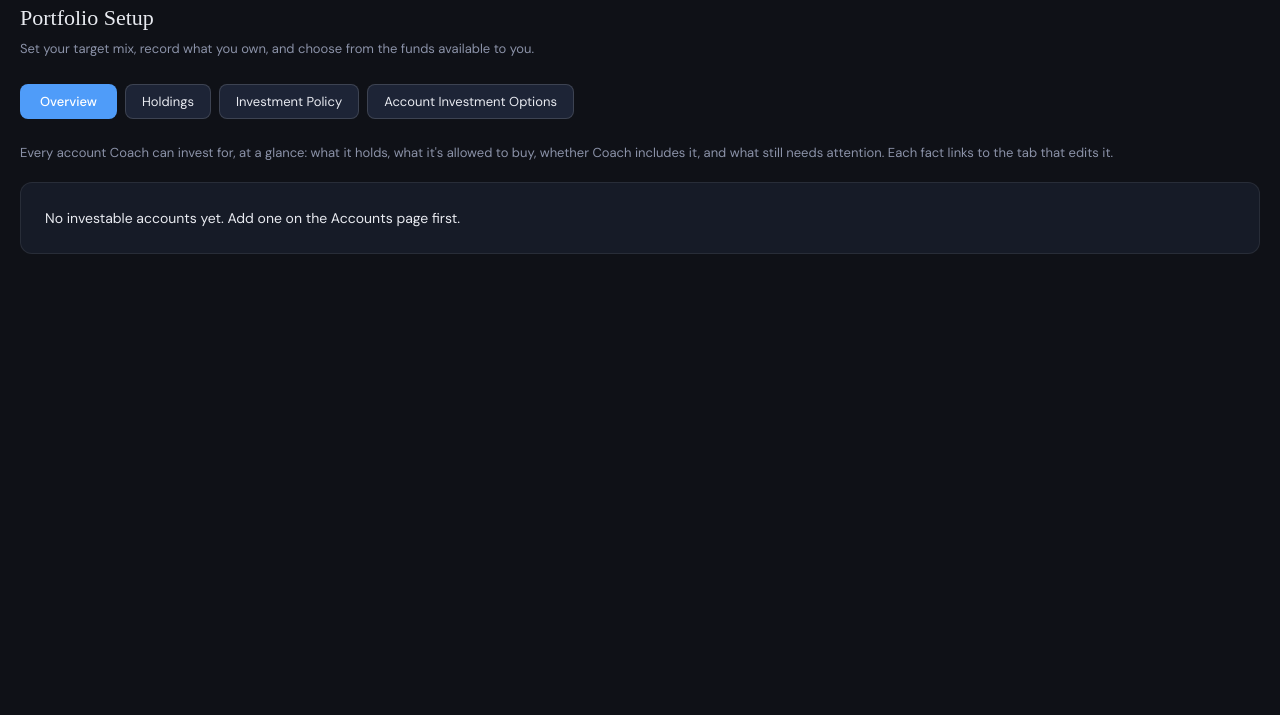
Scenario: PortfolioSetup workflows › applying a preset fills in the detail fields and the summary donut updates (audit finding #7, 2026-09-14)
Click the button "Investment Policy". click: (289, 102)
box: [219,84,359,119]
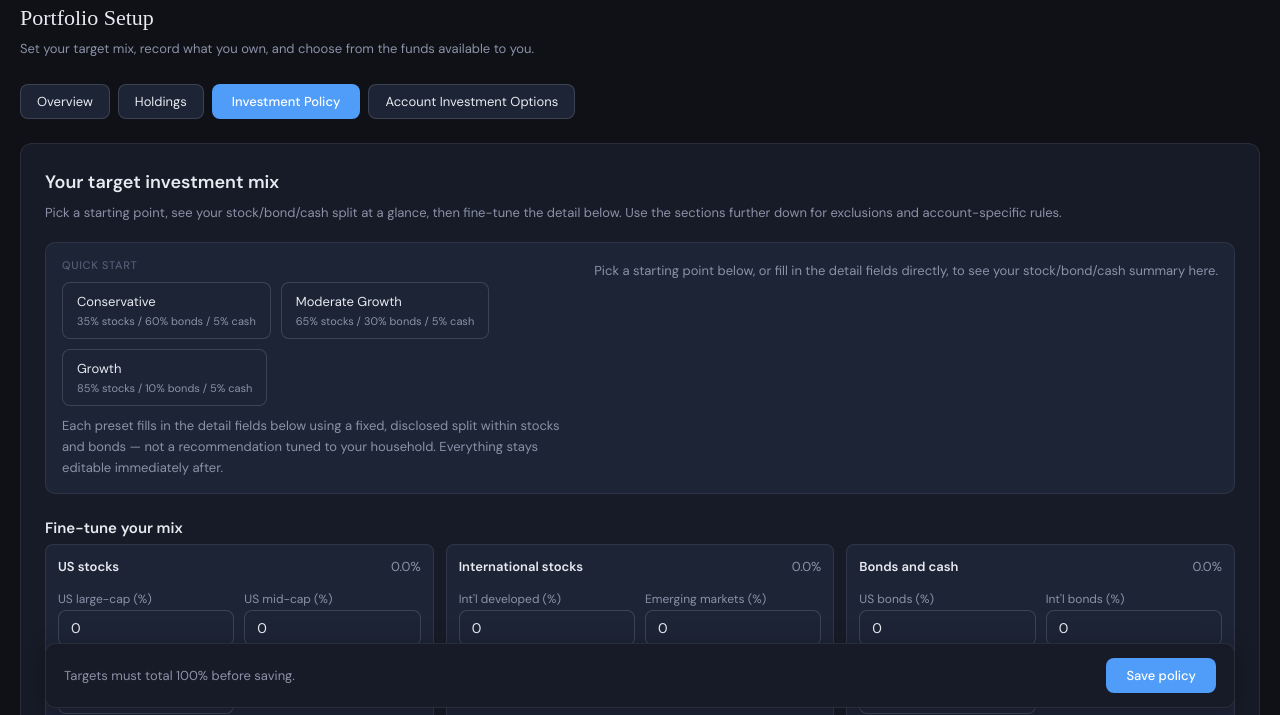
Expected: the text "Pick a starting point below" is shown, [594,262,1218,279]
Click the button "Growth 85% stocks / 10% bonds / 5% cash". click: (165, 378)
box: [62,349,267,406]
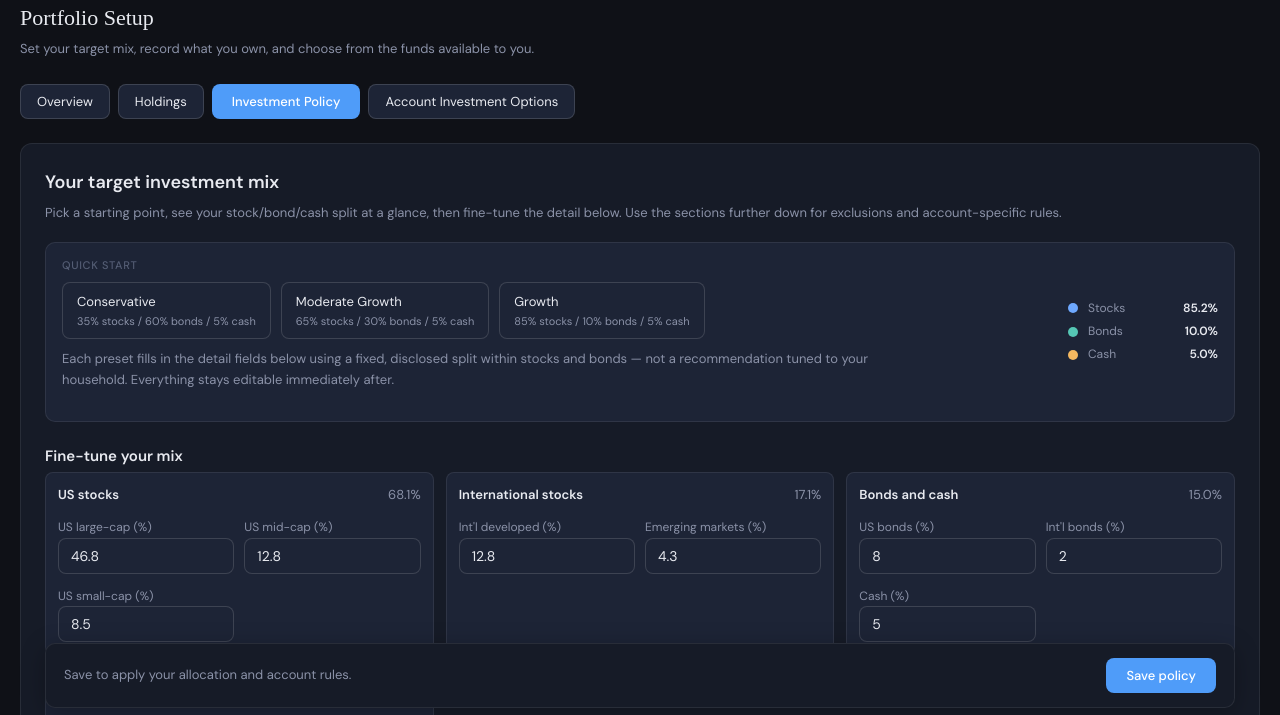
Expected: the number field with id "target_us_large_cap_pct" holds "46.8", [58,538,234,574]
Expected: the number field with id "target_us_mid_cap_pct" holds "12.8", [244,538,421,574]
Expected: the number field with id "target_us_small_cap_pct" holds "8.5", [58,606,234,642]
